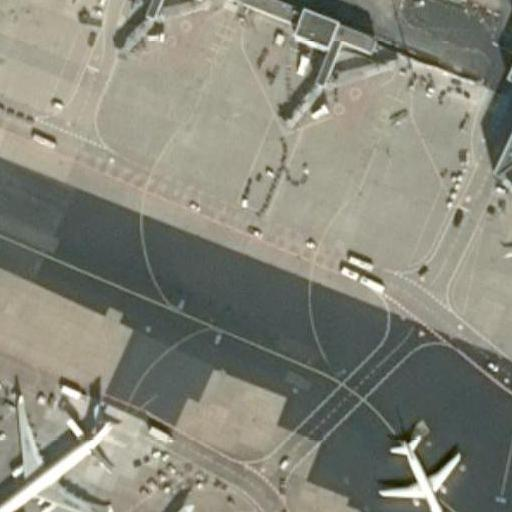Aircraft: (0, 382, 124, 512), (0, 390, 122, 512), (375, 424, 464, 512), (375, 427, 462, 512), (53, 486, 246, 512), (56, 497, 252, 512), (502, 204, 512, 301), (503, 199, 512, 299)
